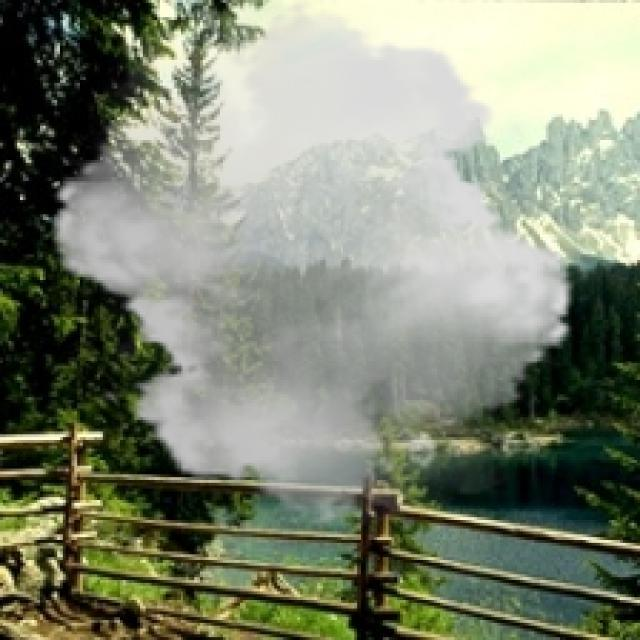Smoke: (32, 0, 594, 526)
